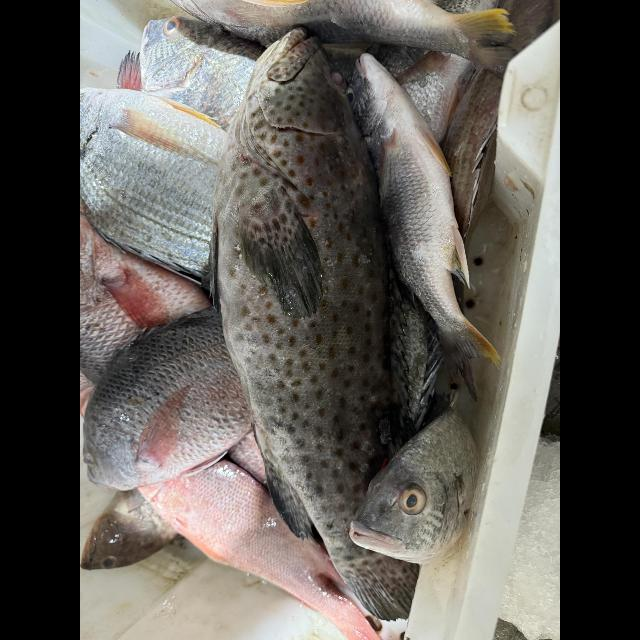Groupers: (212, 23, 436, 621)
